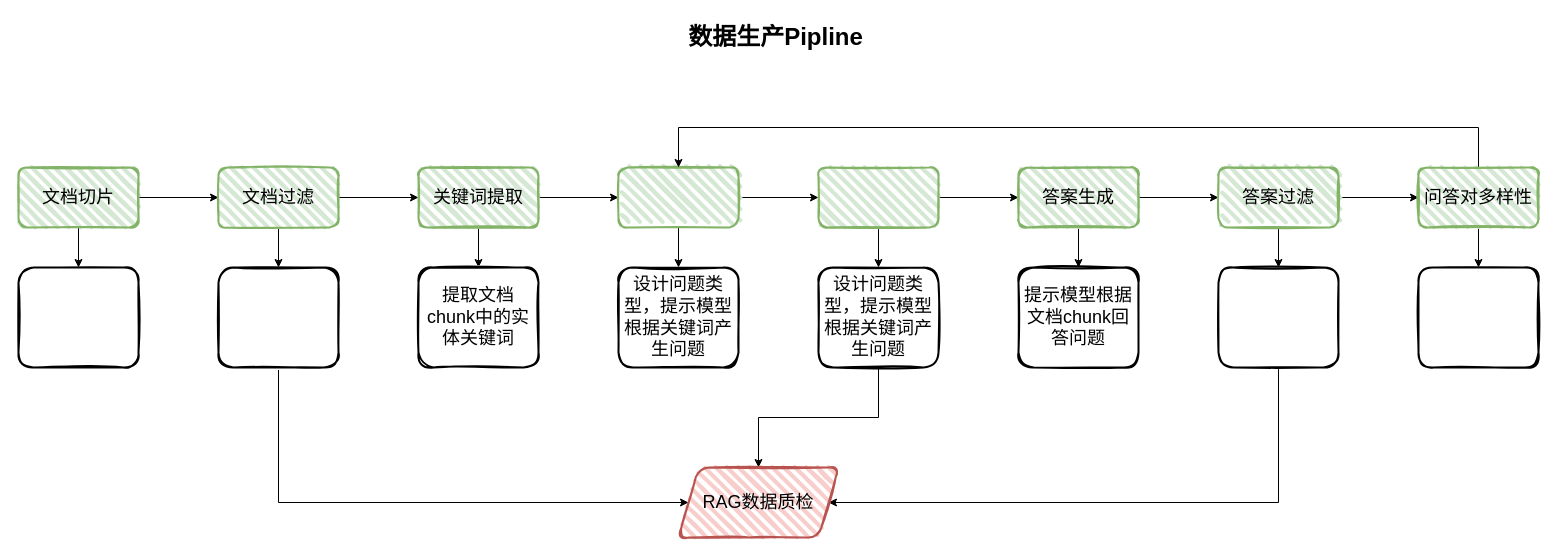
Some shapes in this 1556 by 555 pixel diagram are drawn without their labels. Each missing label, with the centre of its shape:
docx、pdf切片，形成文档chunk: point 78,317
对问题进行口语化处理，重复问题、答案生成过程: point 1478,317
拒答过滤 归因性过滤: point 1278,317
正则/PPL过滤没有实际意义的文档: point 278,317
问题生成: point 678,197
问题过滤: point 878,197
